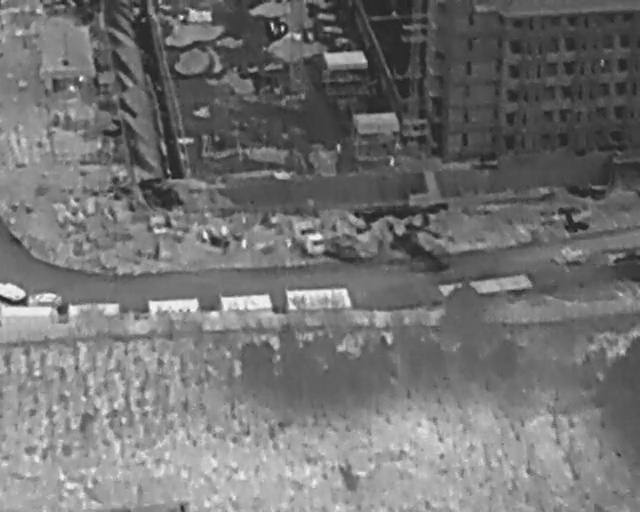Person: (388, 153, 396, 171), (336, 140, 343, 154), (241, 237, 247, 251), (269, 19, 275, 32)
